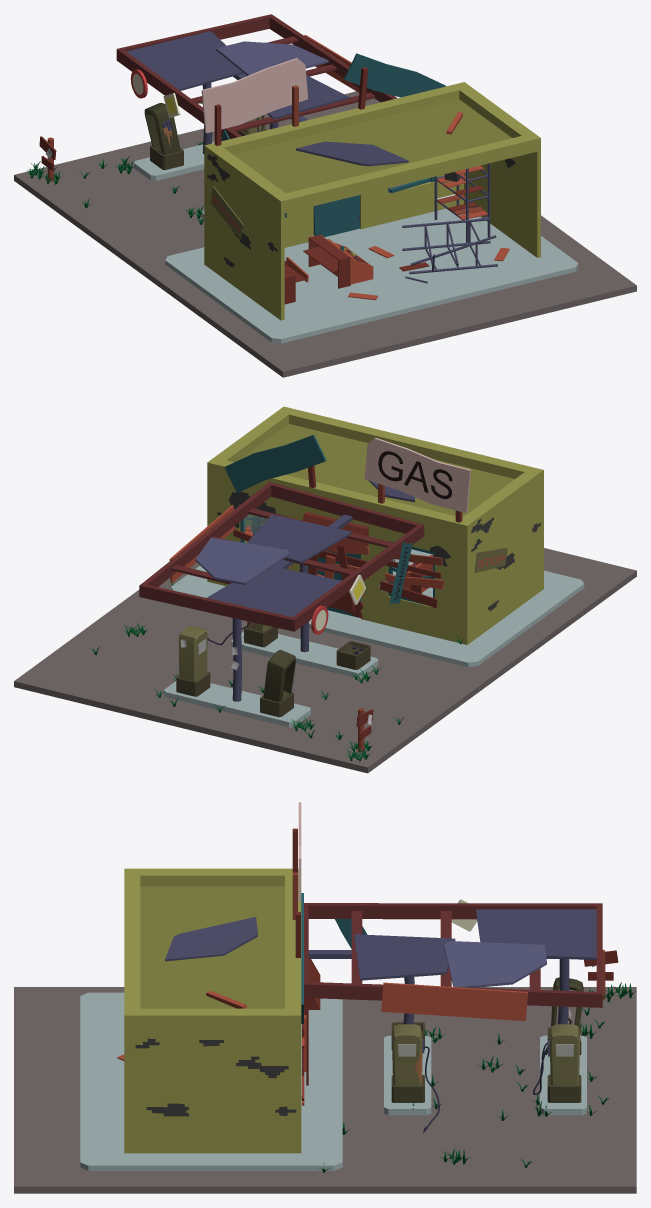
The picture shows the model from 3 angles, top to bottom: view 1: azimuth 30°, elevation 25°; view 2: azimuth 150°, elevation 25°; view 3: azimuth 270°, elevation 25°; orthographic projection. The views are drawn at different scales.
Parts seen in each view (by area): view 1: Box001, Box018, Box015, Box011, Box002, Box124, Box010, Box126, Box127, Box093, Box102, Box119 (+4 smaller); view 2: Box018, Box001, Box002, Box015, Box011, Box124, Box010, Box126, Box125, Box119, Box003, Box006 (+12 smaller); view 3: Box018, Box001, Box015, Box002, Box124, Box009, Box126, Box125, Box127, Box003, Box006, Box104 (+6 smaller).
Part boxes in pixels (left/top/right/bottom): Box001: left=204, top=82, right=540, bottom=320; Box018: left=14, top=91, right=636, bottom=377; Box015: left=165, top=208, right=578, bottom=343; Box011: left=201, top=58, right=308, bottom=133; Box002: left=116, top=14, right=397, bottom=138; Box124: left=126, top=31, right=243, bottom=90; Box010: left=344, top=53, right=445, bottom=97; Box126: left=216, top=41, right=328, bottom=75; Box127: left=296, top=141, right=408, bottom=166; Box093: left=313, top=195, right=359, bottom=237; Box102: left=144, top=102, right=180, bottom=154; Box119: left=134, top=141, right=214, bottom=180; Box018: left=14, top=548, right=636, bottom=773; Box001: left=207, top=406, right=543, bottom=644; Box002: left=139, top=482, right=424, bottom=631; Box015: left=171, top=549, right=584, bottom=667; Box011: left=364, top=438, right=471, bottom=512; Box124: left=207, top=566, right=341, bottom=616; Box010: left=224, top=435, right=326, bottom=492; Box126: left=195, top=537, right=289, bottom=584; Box125: left=247, top=514, right=352, bottom=563; Box119: left=164, top=681, right=310, bottom=727; Box003: left=231, top=631, right=378, bottom=677; Box006: left=178, top=626, right=207, bottom=681; Box018: left=14, top=987, right=636, bottom=1193; Box001: left=124, top=868, right=301, bottom=1153; Box015: left=80, top=992, right=342, bottom=1170; Box002: left=304, top=903, right=602, bottom=1007; Box124: left=476, top=909, right=596, bottom=960; Box009: left=381, top=982, right=527, bottom=1021; Box126: left=444, top=941, right=546, bottom=987; Box125: left=354, top=934, right=455, bottom=980; Box127: left=165, top=917, right=257, bottom=961; Box003: left=384, top=1035, right=431, bottom=1115; Box006: left=549, top=1024, right=579, bottom=1085; Box104: left=392, top=1024, right=422, bottom=1085.
Size of the model in its own units: 180 by 94.71 by 237.
